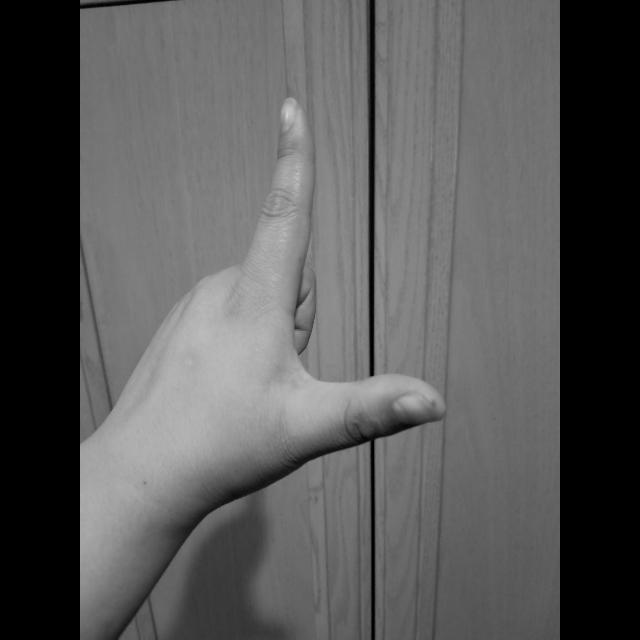L: (96, 90, 454, 522)
